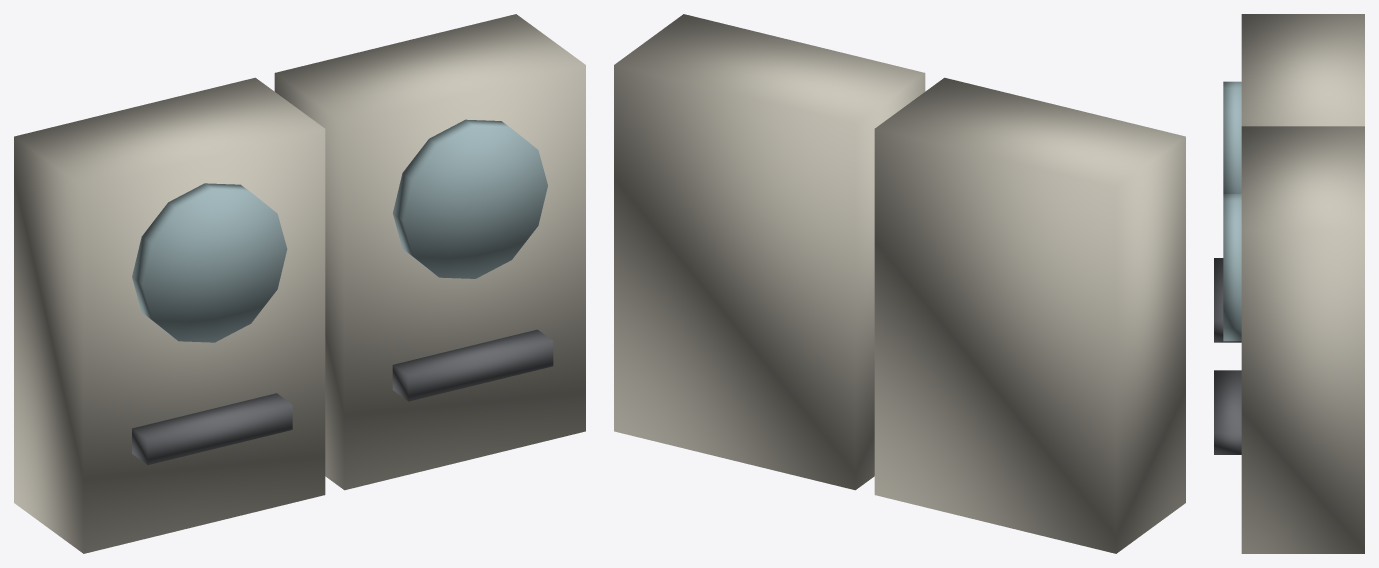
File: factory_time_clock__cluster.glb
3 views of the same model, side by side, from view 1: azimuth 30°, elevation 25°; view 2: azimuth 150°, elevation 25°; view 3: azimuth 270°, elevation 25° (orthographic). The views are drawn at different scales.
Parts seen in each view (by area): view 1: world; view 2: world; view 3: world.
Part boxes in pixels (bbox=[...]): world: bbox=[14, 14, 585, 553]; world: bbox=[614, 14, 1185, 553]; world: bbox=[1214, 14, 1364, 553].
Bounding box in the file's own units: 0.832 × 0.58 × 0.245.
